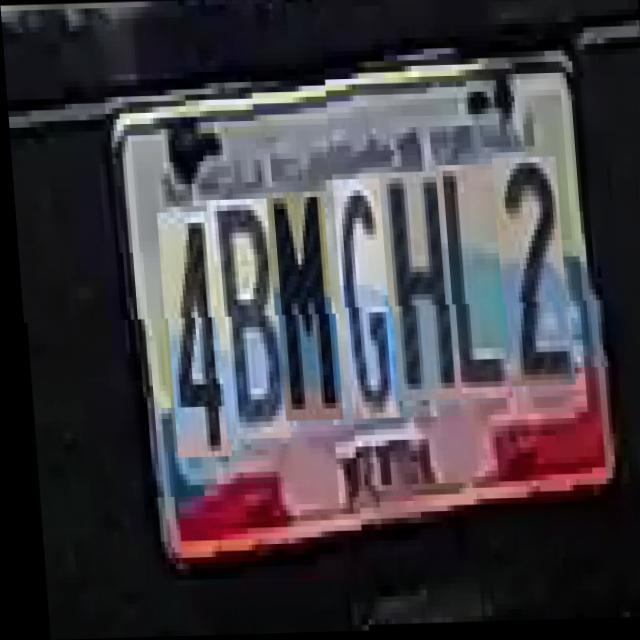2: (493, 166, 570, 394)
4: (157, 212, 225, 458)
B: (206, 200, 284, 440)
G: (333, 186, 394, 427)
H: (379, 180, 456, 408)
L: (436, 172, 507, 408)
M: (266, 194, 336, 422)
